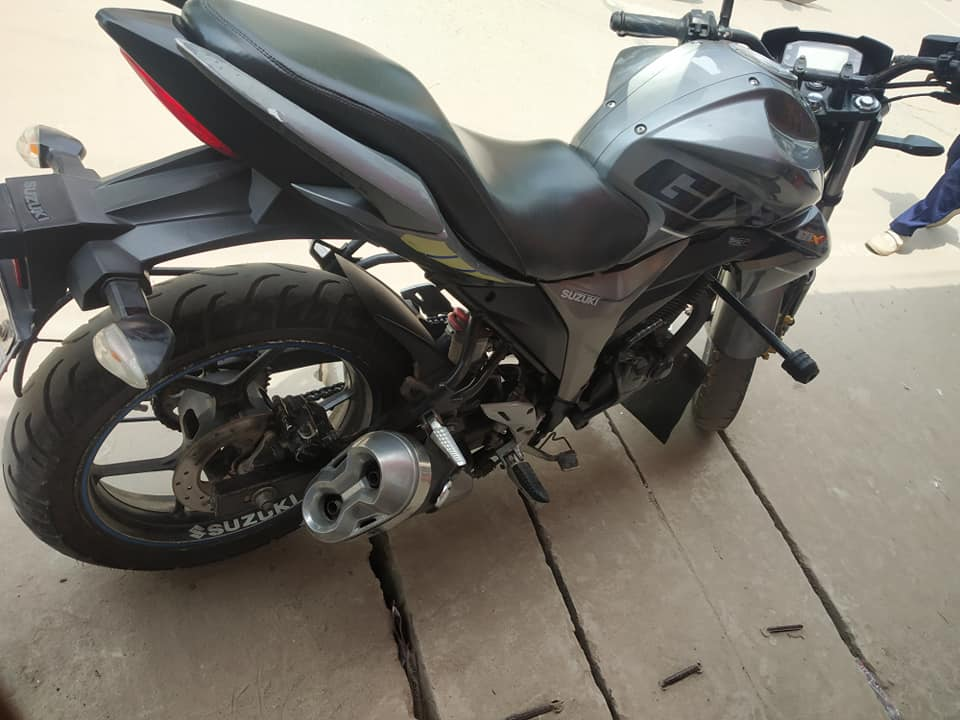bike: (1, 7, 955, 584)
